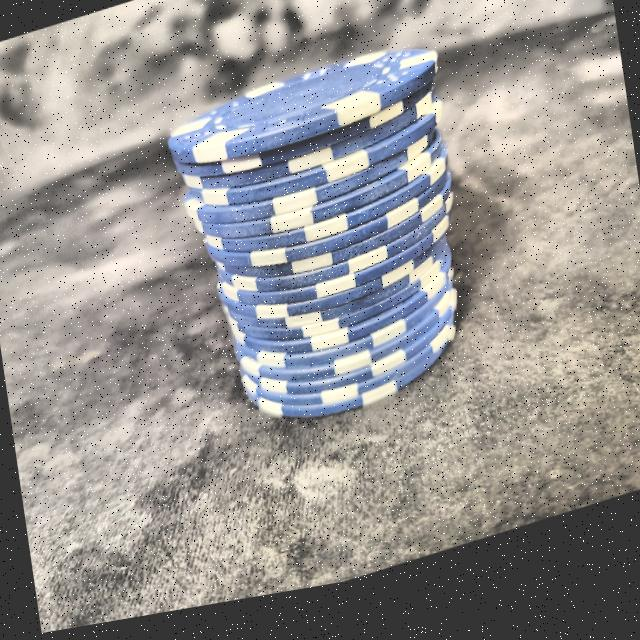Chip: (140, 13, 520, 480)
